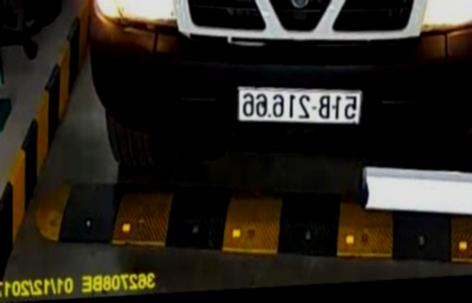License_Plate: (232, 77, 365, 130)
